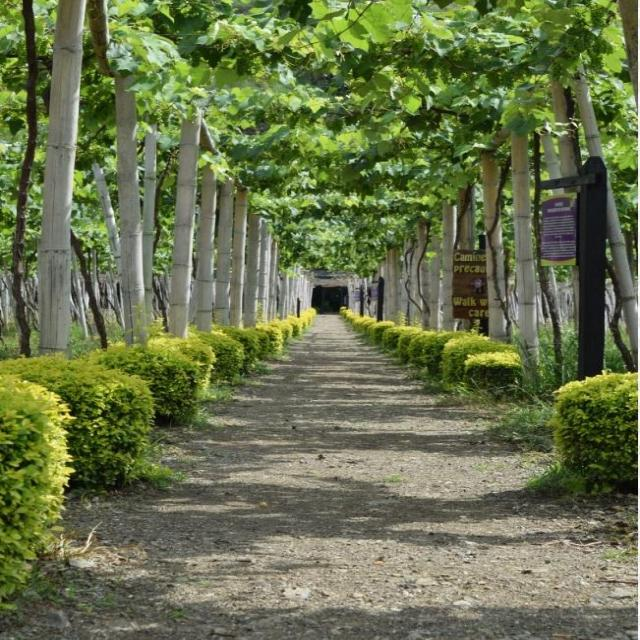row: (0, 315, 640, 640)
